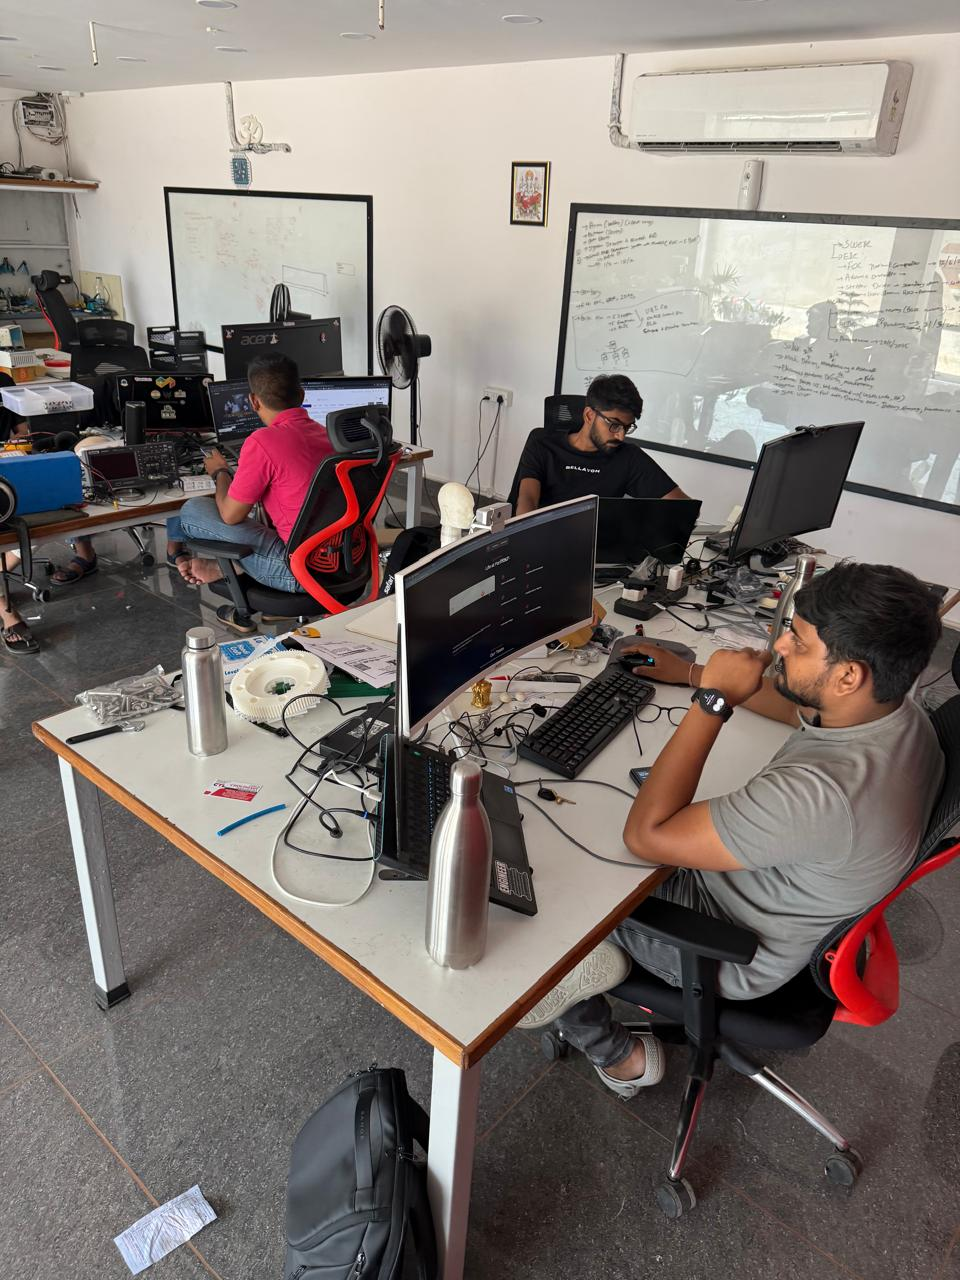bottle_on_table: (396, 748, 541, 1014), (169, 618, 251, 798), (749, 560, 837, 706)
